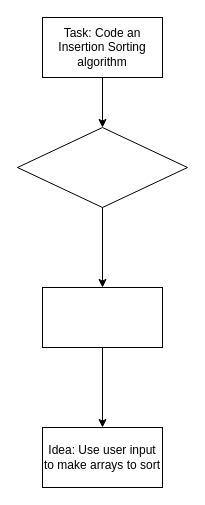
The diagram is 205 pixels wide and 505 high, and some of its shapes have lost their labels. The shapes that lost their labels are listed below. From the top down, each one's centre as x and y in pixels, then its label:
At point 102,167: "Note: Ascending Order".
At point 102,317: "Problem: How do I make the array for sorting?".
